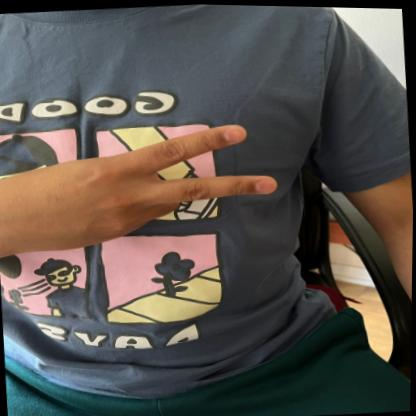H: (0, 108, 287, 265)
